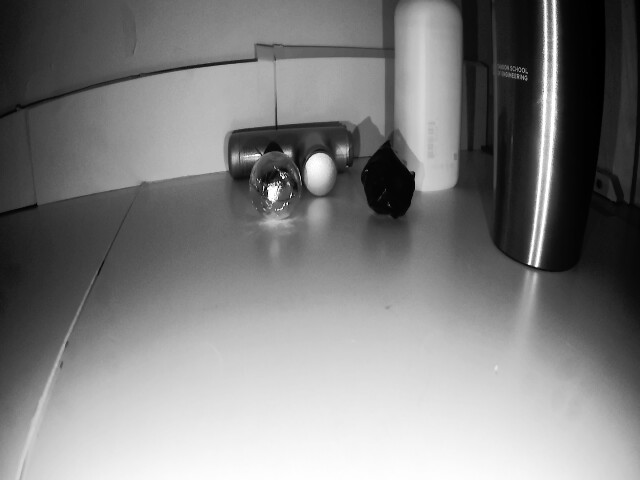black: (250, 150, 304, 216)
silver: (354, 150, 429, 223)
